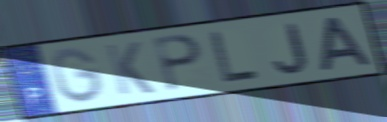A: (319, 15, 376, 73)
G: (48, 46, 107, 106)
J: (272, 21, 311, 75)
K: (102, 40, 157, 97)
L: (208, 29, 262, 86)
P: (151, 33, 205, 94)
